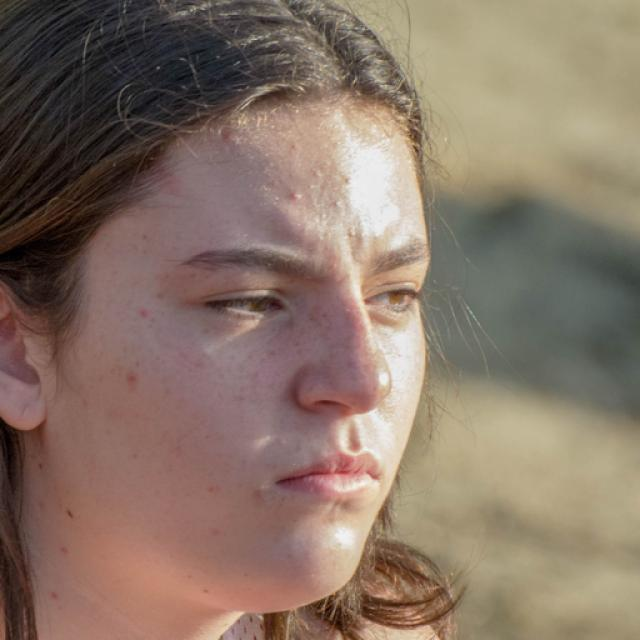Acne: (326, 256, 342, 274), (329, 196, 349, 210), (286, 189, 302, 204), (342, 227, 358, 241), (310, 167, 325, 181), (367, 230, 383, 242), (341, 174, 352, 187)
